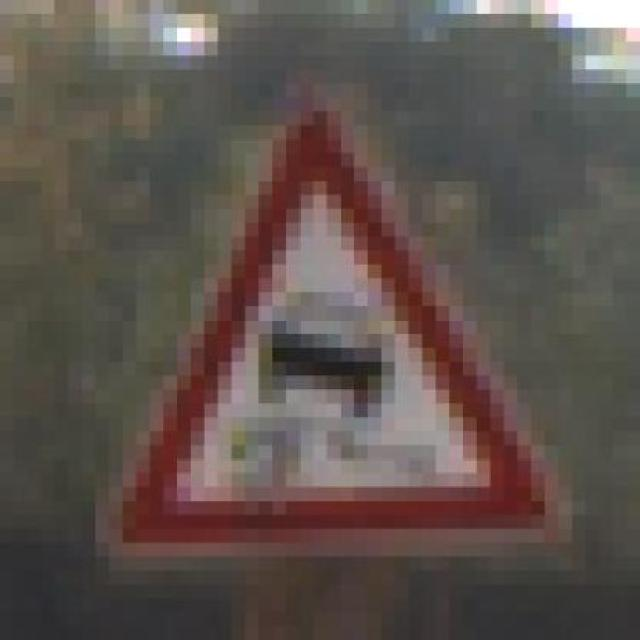Slippery Road Ahead: (68, 69, 572, 585)
